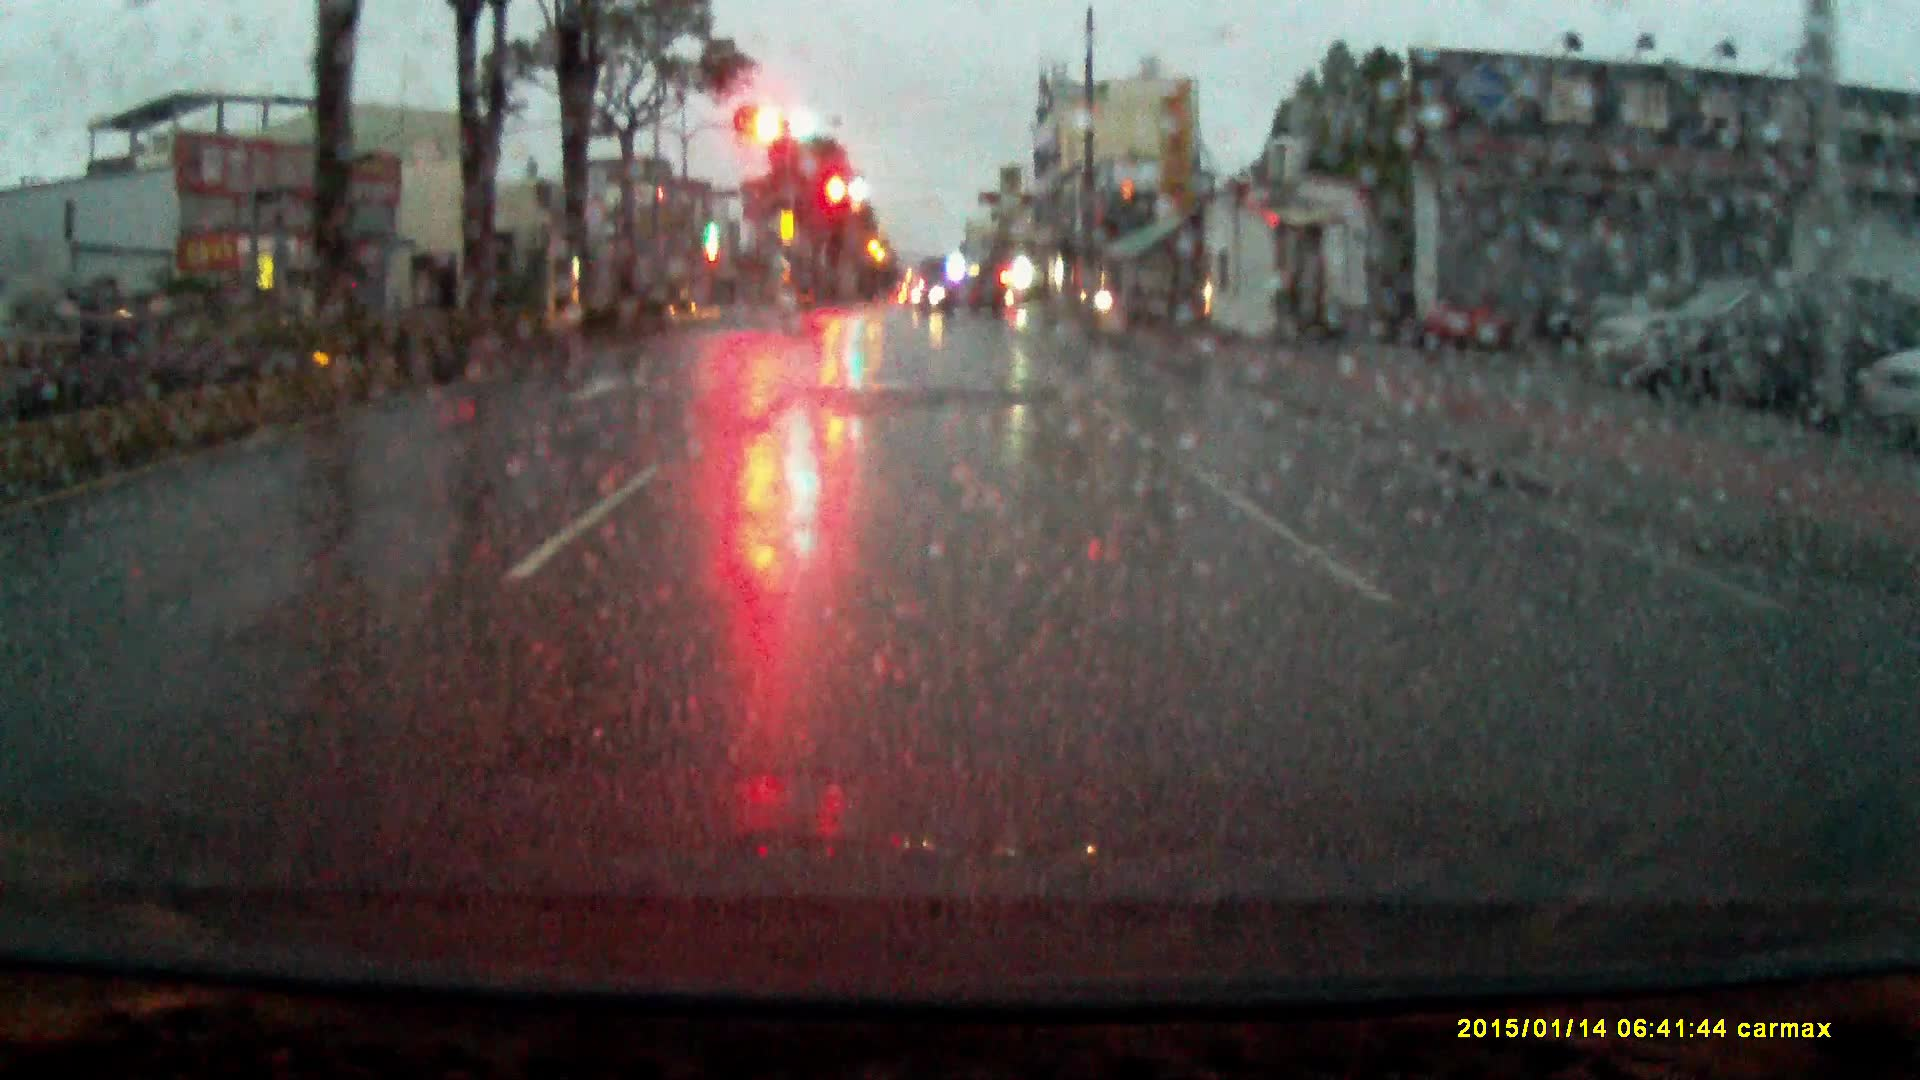vehicle: (1585, 277, 1887, 406), (1702, 280, 1909, 422), (913, 276, 1005, 320)
